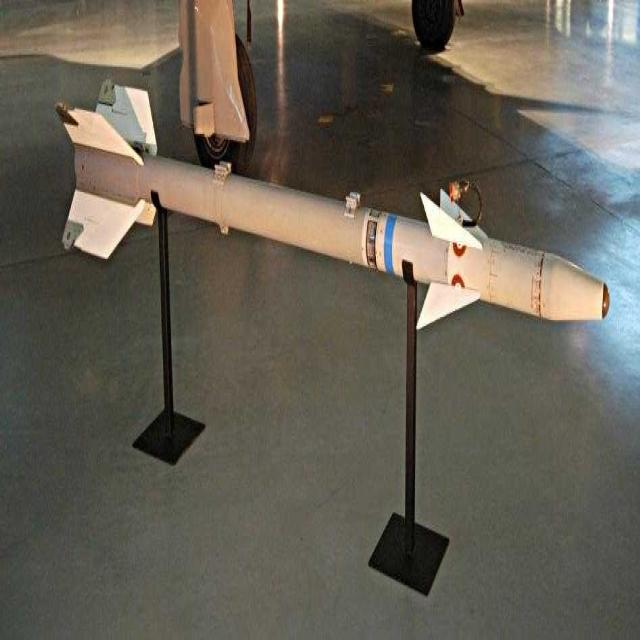missile: (56, 80, 608, 330)
